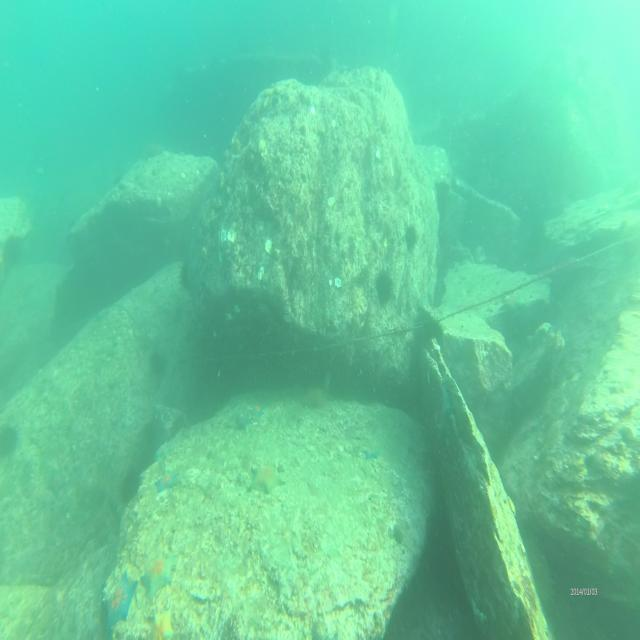echinus: (376, 264, 396, 308), (421, 314, 444, 345), (0, 420, 17, 454), (404, 218, 420, 252), (178, 260, 194, 294), (151, 345, 168, 374)
starfish: (102, 574, 138, 626), (138, 549, 174, 594), (250, 456, 286, 500), (148, 610, 176, 640), (157, 465, 179, 495), (363, 441, 381, 463)
